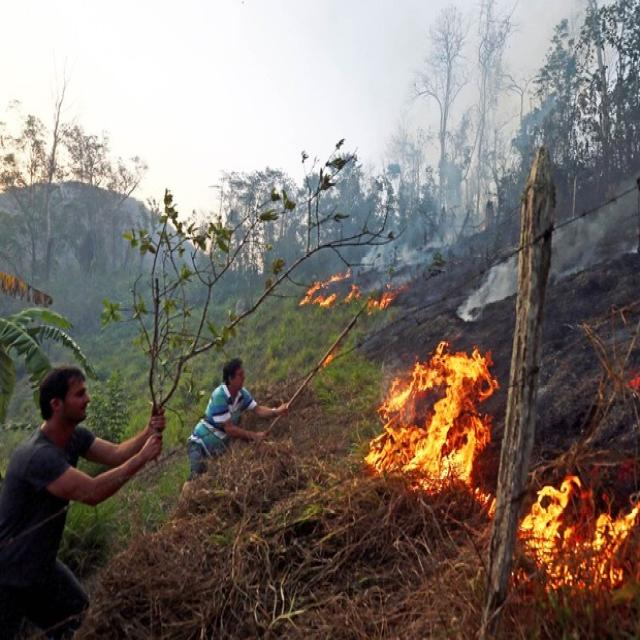fire: (383, 350, 486, 486), (528, 482, 634, 578)
